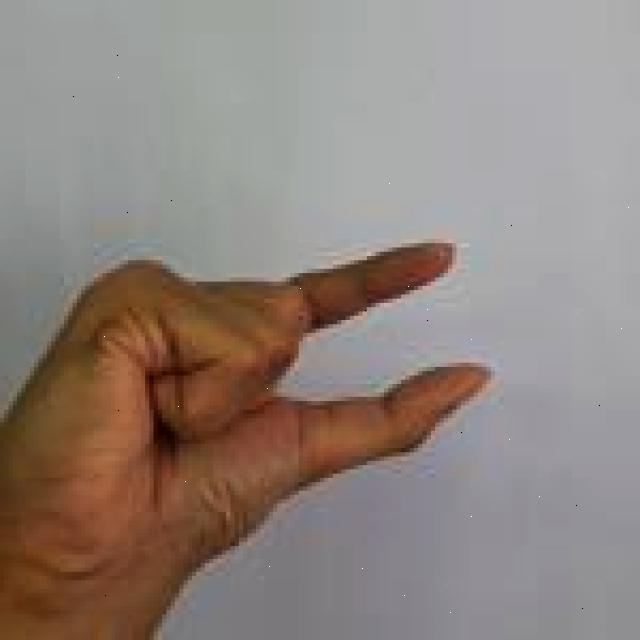G: (0, 236, 497, 639)
